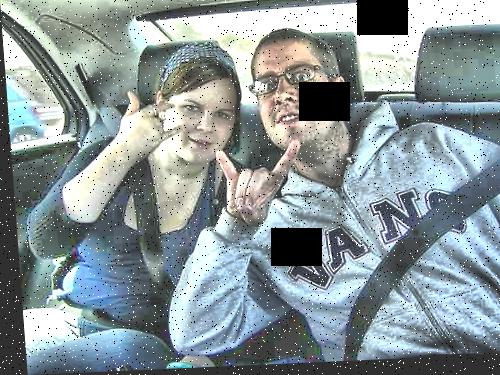seatbelt: (318, 159, 500, 336), (83, 79, 164, 286)
